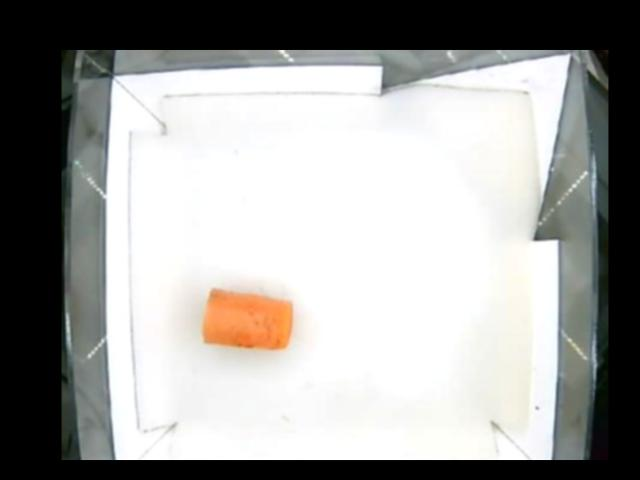Carrot: (200, 286, 293, 348)
